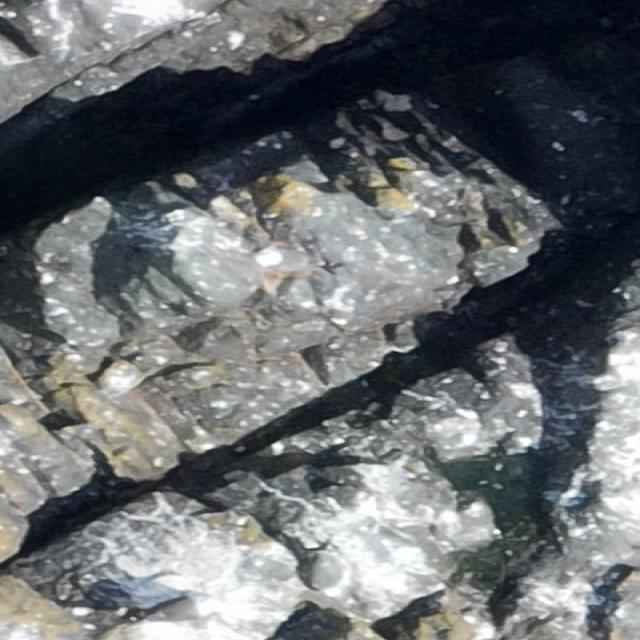umineko: (135, 596, 216, 624), (253, 248, 327, 272)
